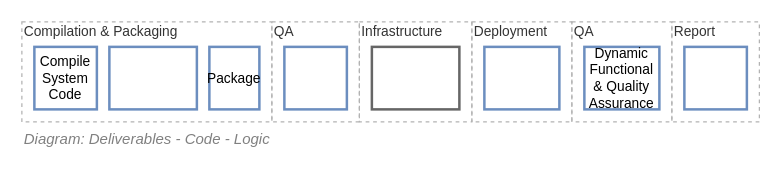
The diagram is 781 pixels wide and 174 high, and some of its shapes have lost their labels. The shapes that lost their labels are listed below. From the top down, each one's centre as x and y in pixels, then its label:
pixel 153 77: Add env-specific Configuration instructions
pixel 315 77: Static Quality Assurance
pixel 415 77: Develop Infrastructure from Code Instructions
pixel 521 77: Deploy Package to target Environment
pixel 715 77: Develop Reports
